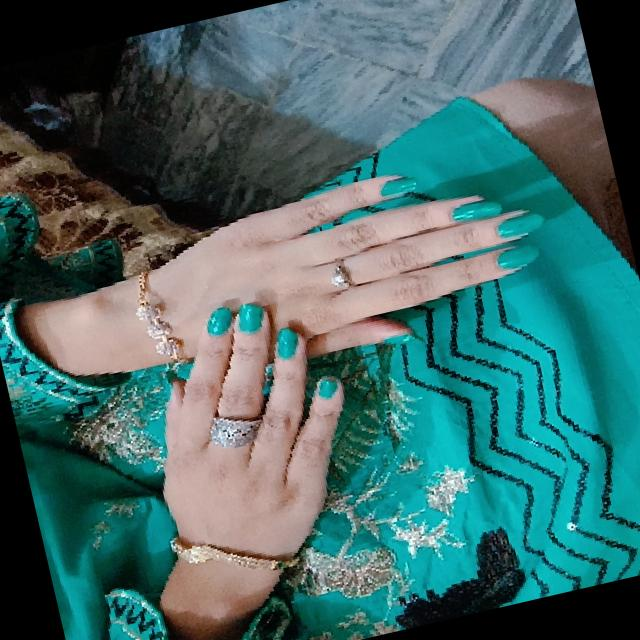Nail: (496, 211, 543, 238), (451, 199, 502, 221), (496, 243, 539, 269), (237, 302, 264, 333), (275, 326, 298, 359), (207, 305, 231, 336), (380, 176, 417, 196), (316, 376, 338, 398), (383, 331, 414, 343)
